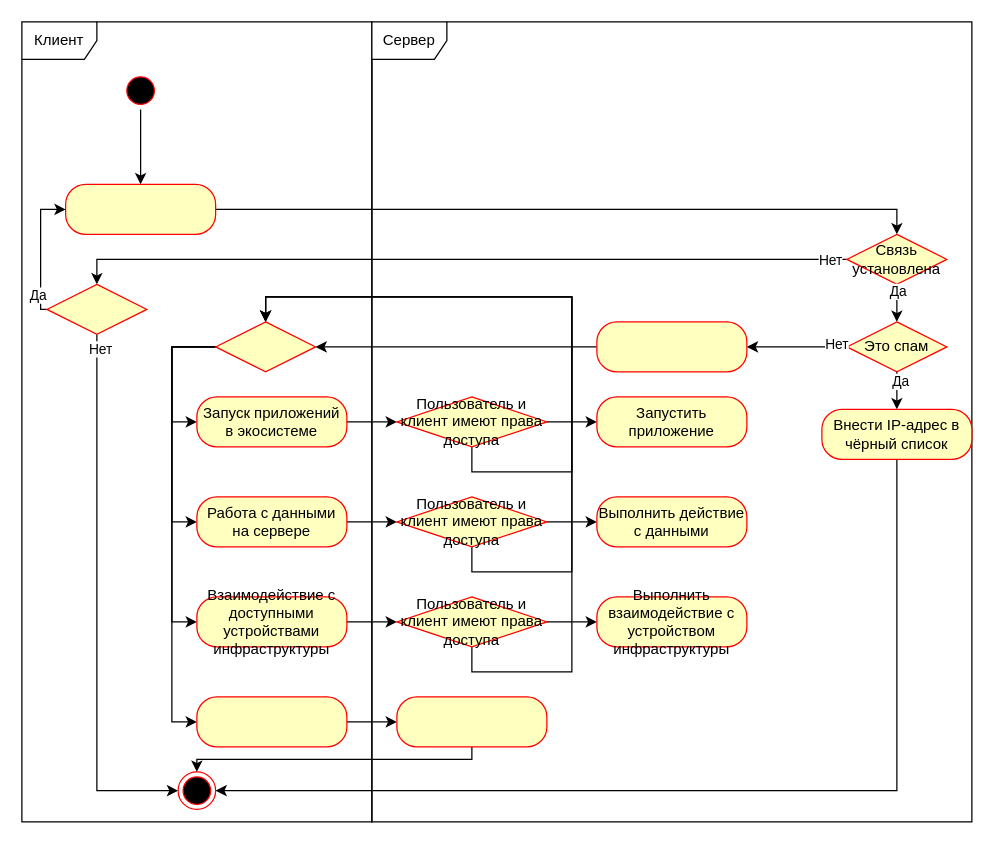
The diagram is 994 pixels wide and 844 high, and some of its shapes have lost their labels. Here are the shapes that lost their labels. From the top down, the centre of each, then its label:
(140,208): Установление связи с сервером (Авторизация?)
(96,308): Повторное соединение
(265,346): Что делает пользователь
(671,346): Запуск видеопотока
(271,721): Окончание сессии
(471,721): Отключение видеопотока
